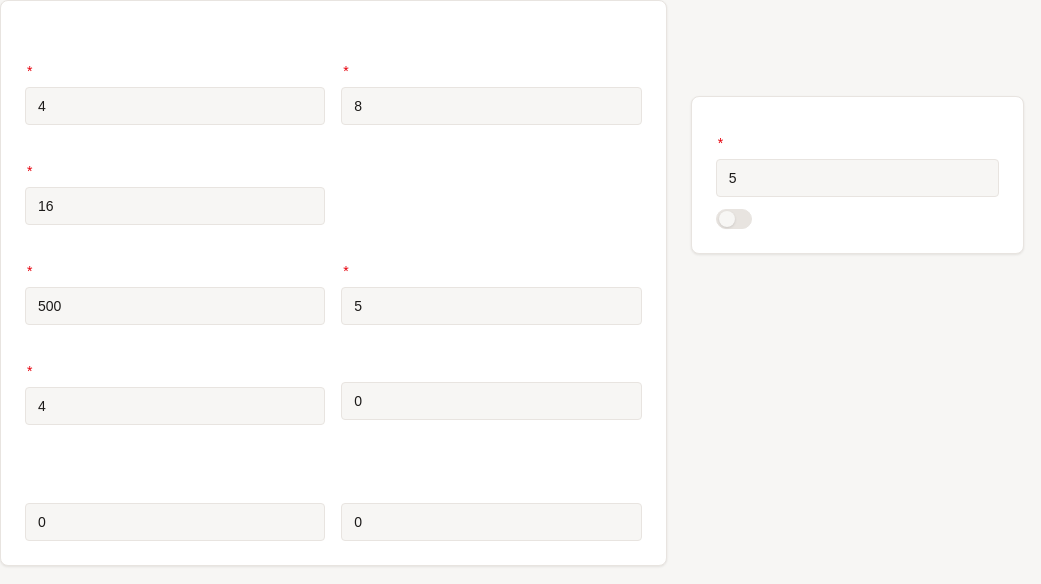
Test: PolicyForm unlimited quota and GiB memory › switching Unlimited on submits -1 and disables the number input
Check: the 3rd number field labelled "*" is enabled, box [716,159,999,197]
Step 1. Click the switch → (734, 219), box [716,209,752,229]
Wait 700 ms
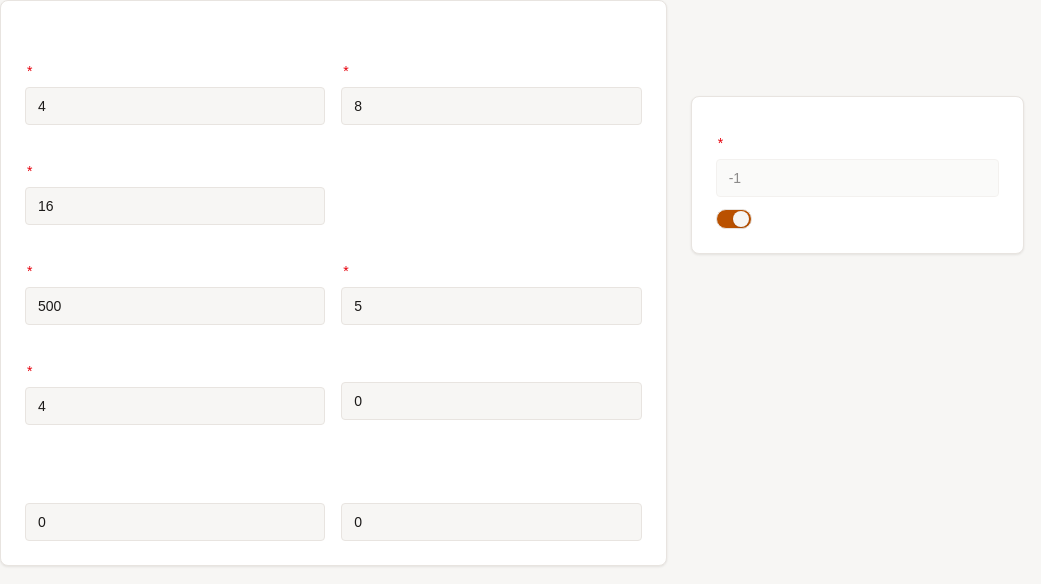
Check: the 3rd number field labelled "*" is disabled, box [716,159,999,197]
